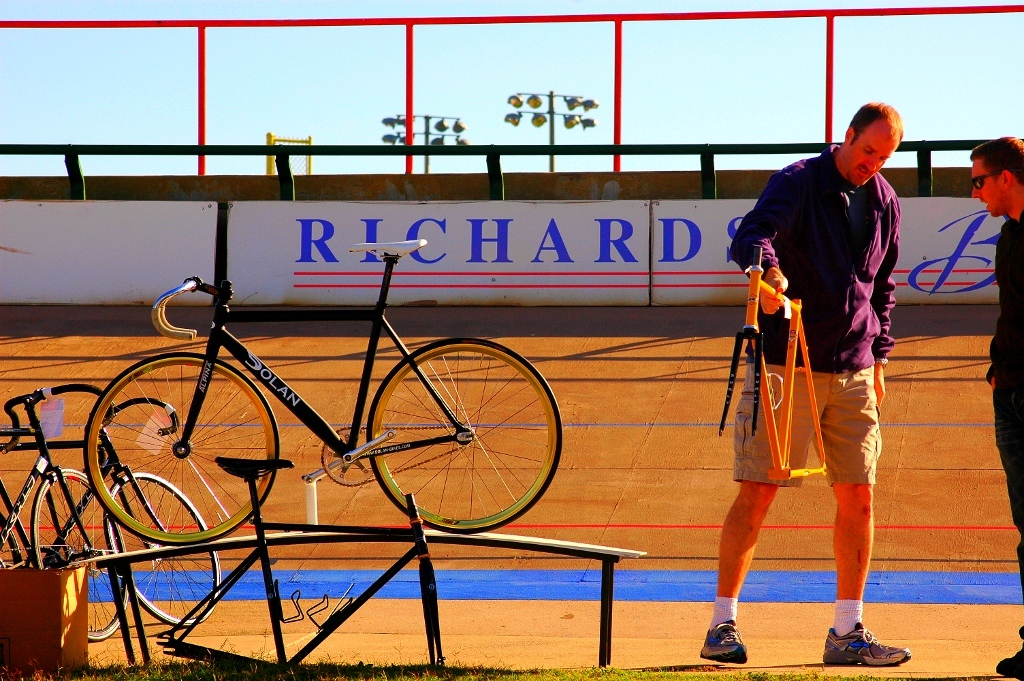Bike_toward: (127, 265, 543, 533)
